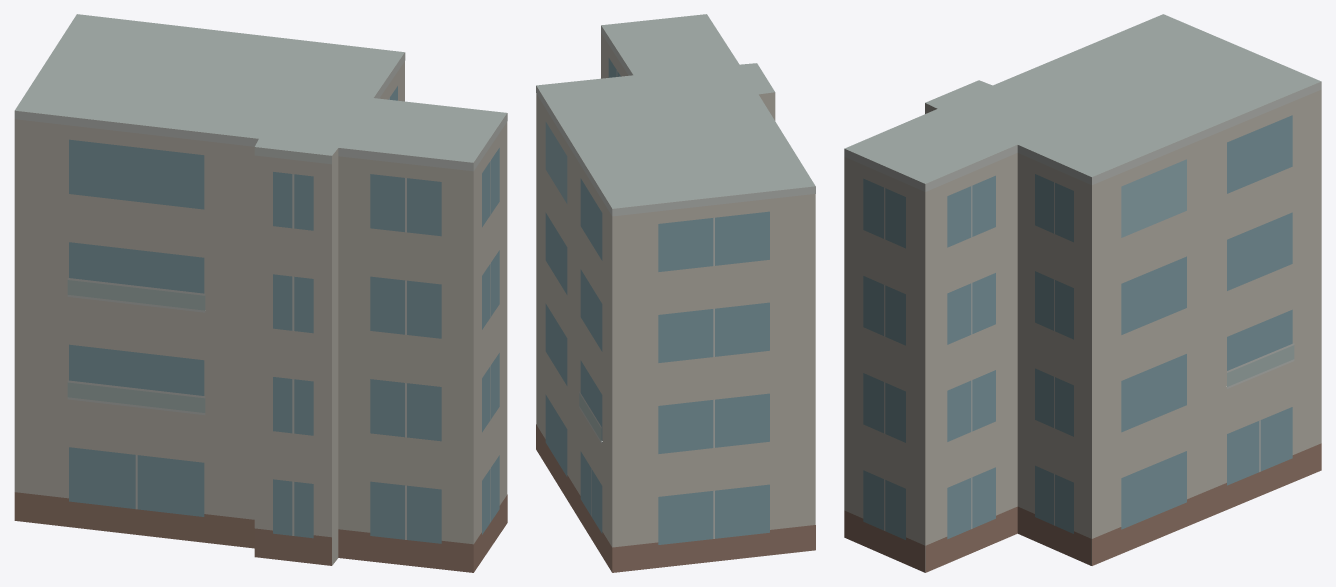
Rendered from survey-upis-32491995.glb.
3 renders of one model, left to right at view 1: azimuth 30°, elevation 25°; view 2: azimuth 150°, elevation 25°; view 3: azimuth 270°, elevation 25°, orthographic. The views are drawn at different scales.
Visible parts, largest first — view 1: survey-upis-32491995.tmp; view 2: survey-upis-32491995.tmp; view 3: survey-upis-32491995.tmp.
Part boxes in pixels (x1,y1,x2,y2): survey-upis-32491995.tmp: [14, 14, 507, 572]; survey-upis-32491995.tmp: [536, 14, 815, 572]; survey-upis-32491995.tmp: [844, 14, 1321, 572].
Size of the model in its own units: 11.02 by 11.75 by 13.08.
